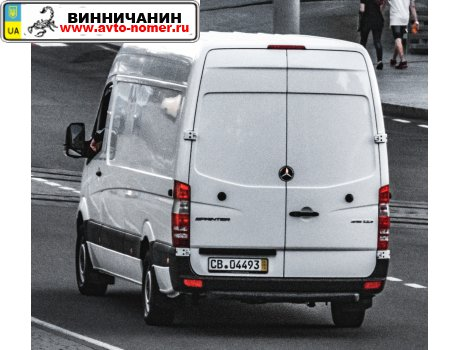License Plates: (213, 258, 262, 268)
